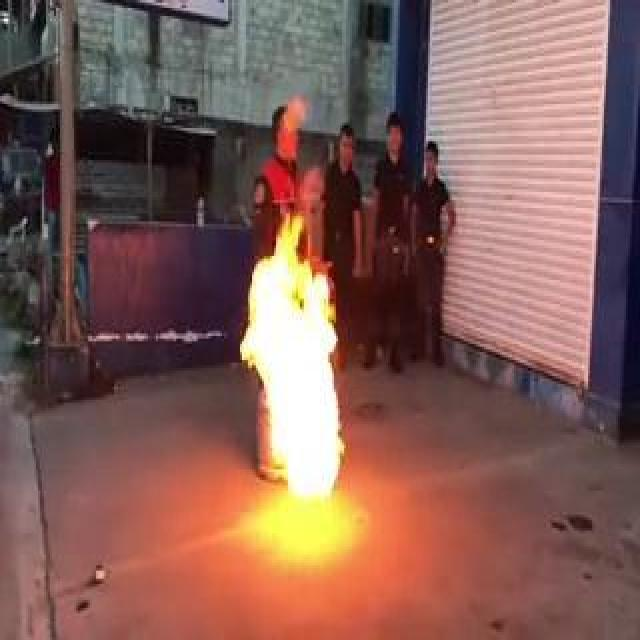Fire: (234, 207, 364, 516)
